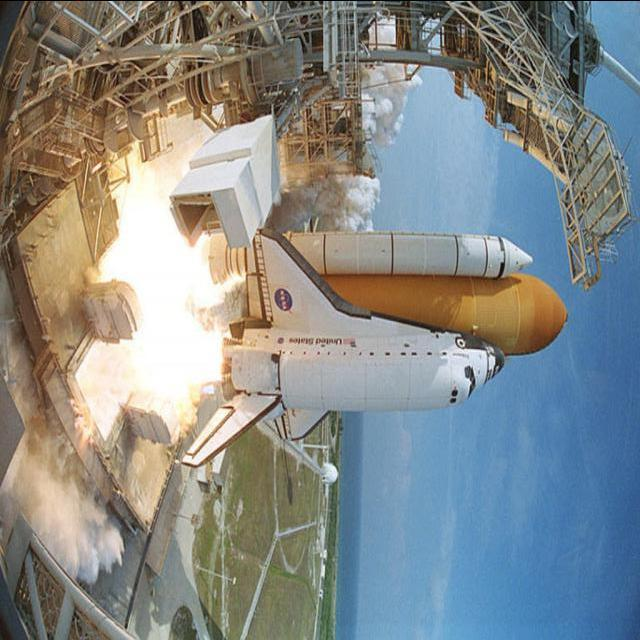Missile: (219, 225, 536, 283)
